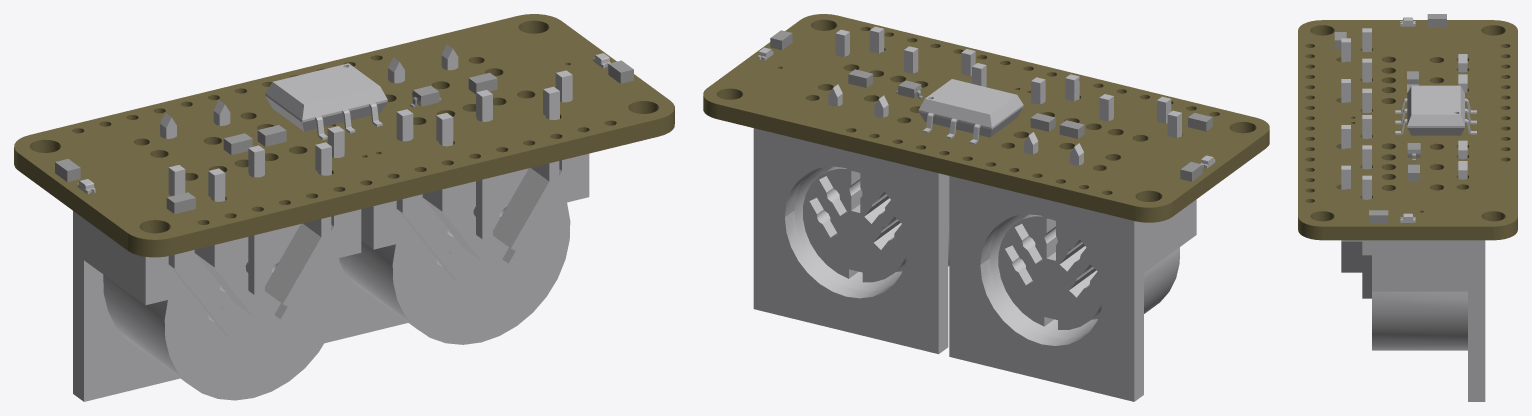
Rendered from ada-4740.glb.
3 renders of one model, left to right at view 1: azimuth 30°, elevation 25°; view 2: azimuth 150°, elevation 25°; view 3: azimuth 270°, elevation 25°, orthographic. The views are drawn at different scales.
Visible parts, largest first — view 1: 0.5833333333333334_0.5833333333333334_0.5833333333333334_0.8, 0.16666666666666666_0.16666666666666666_0.08333333333333333_, 0.3333333333333333_0.3333333333333333_0.3333333333333333_0; view 2: 0.5833333333333334_0.5833333333333334_0.5833333333333334_0.8, 0.16666666666666666_0.16666666666666666_0.08333333333333333_, 0.3333333333333333_0.3333333333333333_0.3333333333333333_0; view 3: 0.16666666666666666_0.16666666666666666_0.08333333333333333_, 0.5833333333333334_0.5833333333333334_0.5833333333333334_0.8, 0.3333333333333333_0.3333333333333333_0.3333333333333333_0.
Boxes of the visible parts, x1,y1,x2,y2 form: 0.5833333333333334_0.5833333333333334_0.5833333333333334_0.8: [73, 44, 610, 401]; 0.16666666666666666_0.16666666666666666_0.08333333333333333_: [14, 14, 674, 257]; 0.3333333333333333_0.3333333333333333_0.3333333333333333_0: [55, 60, 633, 214]; 0.5833333333333334_0.5833333333333334_0.5833333333333334_0.8: [753, 26, 1215, 401]; 0.16666666666666666_0.16666666666666666_0.08333333333333333_: [703, 14, 1269, 222]; 0.3333333333333333_0.3333333333333333_0.3333333333333333_0: [770, 30, 1212, 181]; 0.16666666666666666_0.16666666666666666_0.08333333333333333_: [1298, 20, 1517, 240]; 0.5833333333333334_0.5833333333333334_0.5833333333333334_0.8: [1341, 17, 1485, 401]; 0.3333333333333333_0.3333333333333333_0.3333333333333333_0: [1334, 14, 1446, 223].
Bounding box in the file's own units: 5.08 × 2.49 × 2.29.
